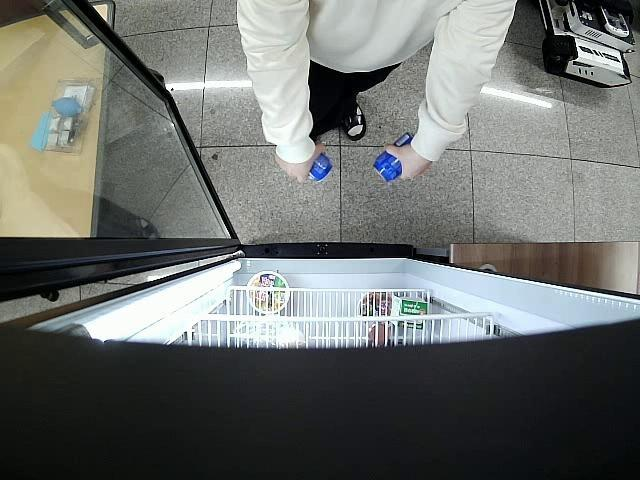13_pocariSweat: (372, 132, 414, 184), (306, 153, 336, 186)
